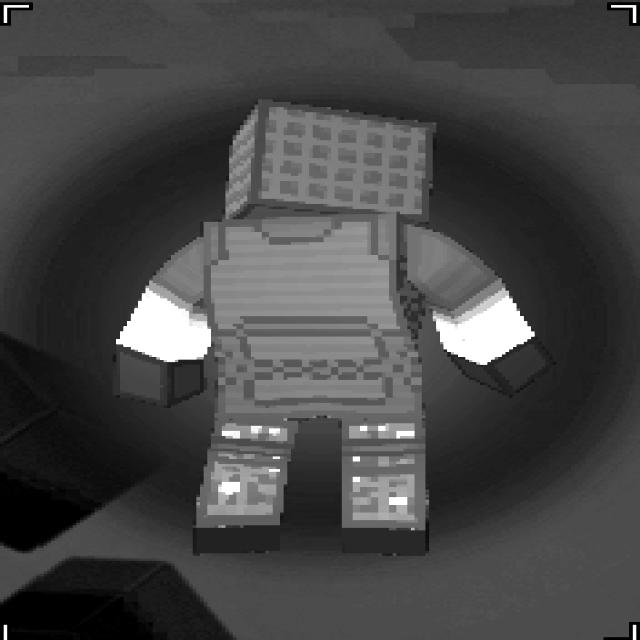Head: (222, 97, 436, 219)
Player: (109, 97, 553, 556)
